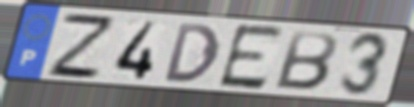3: (336, 29, 392, 102)
4: (111, 19, 158, 83)
B: (271, 28, 340, 93)
D: (162, 21, 222, 85)
E: (215, 22, 288, 92)
Z: (45, 10, 116, 81)
